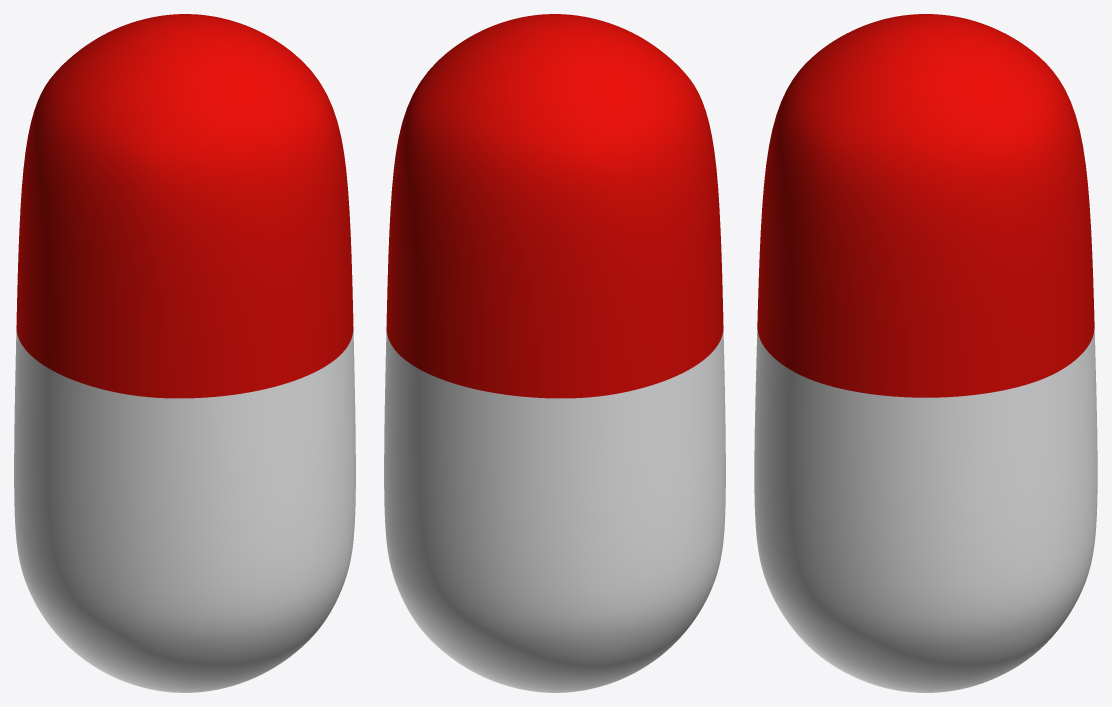
File: pill.fbx
3 views of the same model, side by side, from view 1: azimuth 30°, elevation 25°; view 2: azimuth 150°, elevation 25°; view 3: azimuth 270°, elevation 25° (orthographic).
Parts seen in each view (by area): view 1: Roundcube; view 2: Roundcube; view 3: Roundcube.
Boxes of the visible parts, left/top/right/bottom form: Roundcube: left=14, top=14, right=355, bottom=692; Roundcube: left=384, top=14, right=725, bottom=692; Roundcube: left=754, top=14, right=1097, bottom=692.
Size of the model in its own units: 193 by 402 by 193.
